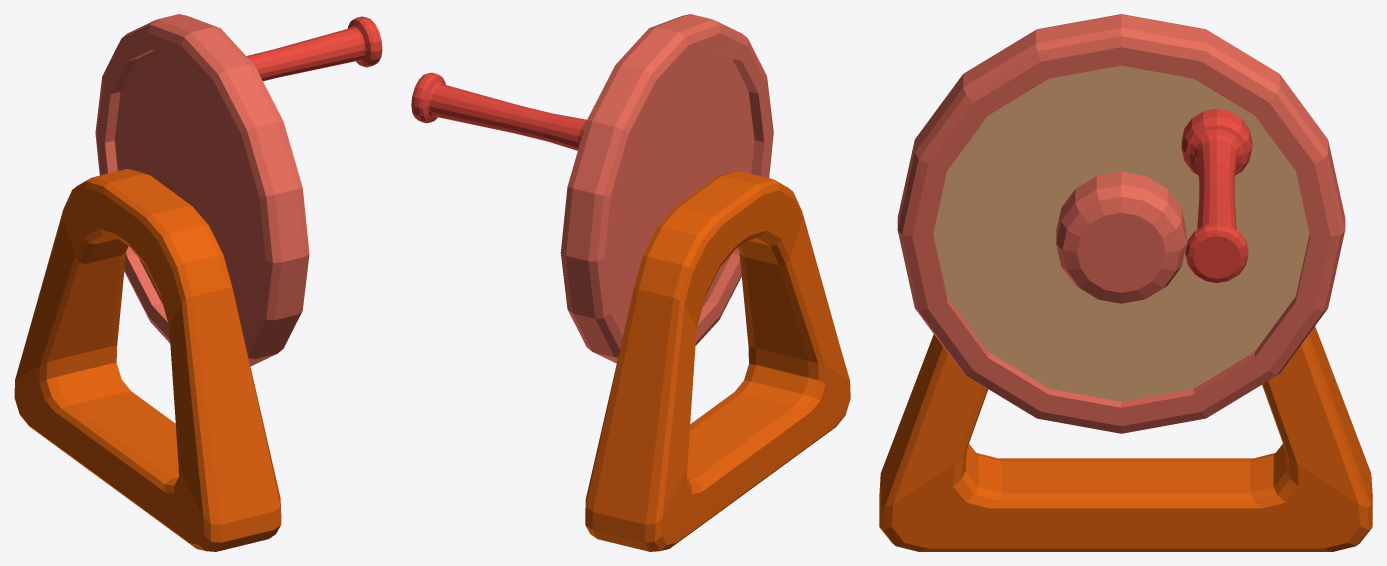
File: NewPulley.fbx
3 renders of one model, left to right at view 1: azimuth 30°, elevation 25°; view 2: azimuth 150°, elevation 25°; view 3: azimuth 270°, elevation 25°, orthographic. The views are drawn at different scales.
Parts seen in each view (by area): view 1: Pulley, Cylinder.001, Cylinder.002; view 2: Pulley, Cylinder.001, Cylinder.002; view 3: Cylinder.001, Pulley, Cylinder.002.
Boxes of the visible parts, x1,y1,x2,y2 form: Pulley: (14, 169, 281, 551); Cylinder.001: (95, 14, 309, 366); Cylinder.002: (246, 16, 382, 81); Pulley: (585, 171, 850, 551); Cylinder.001: (560, 14, 773, 363); Cylinder.002: (411, 72, 586, 150); Cylinder.001: (897, 14, 1345, 433); Pulley: (879, 326, 1372, 551); Cylinder.002: (1181, 108, 1252, 282).
Size of the model in its own units: 3.3 by 4.63 by 3.81.
